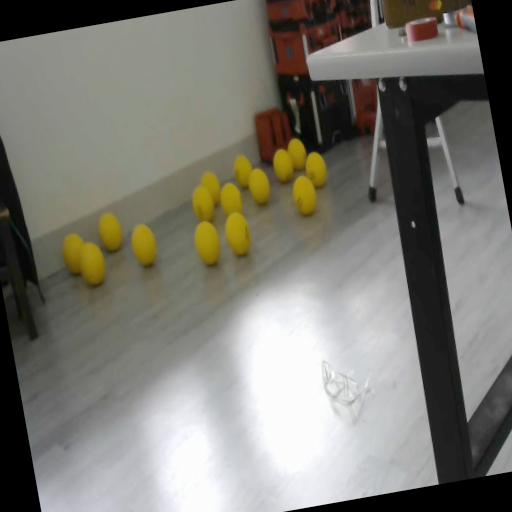FUEL: (190, 216, 224, 268), (220, 208, 254, 258), (127, 220, 160, 268), (59, 230, 90, 276), (289, 170, 320, 216), (94, 209, 125, 253), (302, 148, 330, 190), (216, 179, 244, 217), (198, 168, 224, 208), (246, 166, 272, 206), (230, 152, 256, 190), (284, 134, 309, 172), (270, 147, 295, 184)
